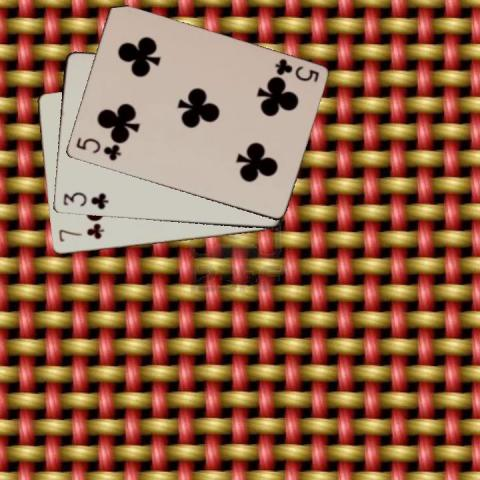3c: (60, 190, 109, 212)
5c: (73, 134, 122, 163), (271, 55, 320, 84)
7c: (55, 224, 106, 243)
